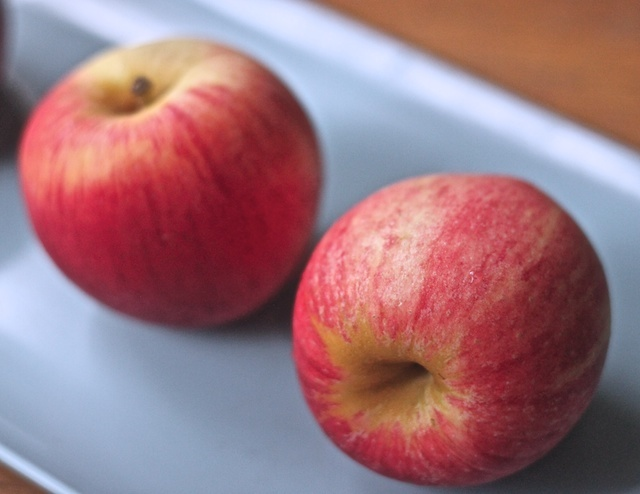apple: (295, 159, 619, 494), (15, 36, 324, 330)
